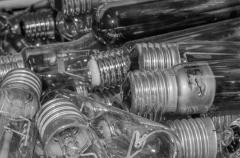lightbulb: (0, 1, 240, 158), (128, 60, 216, 122), (35, 97, 110, 157), (0, 67, 42, 120), (219, 115, 239, 158)
